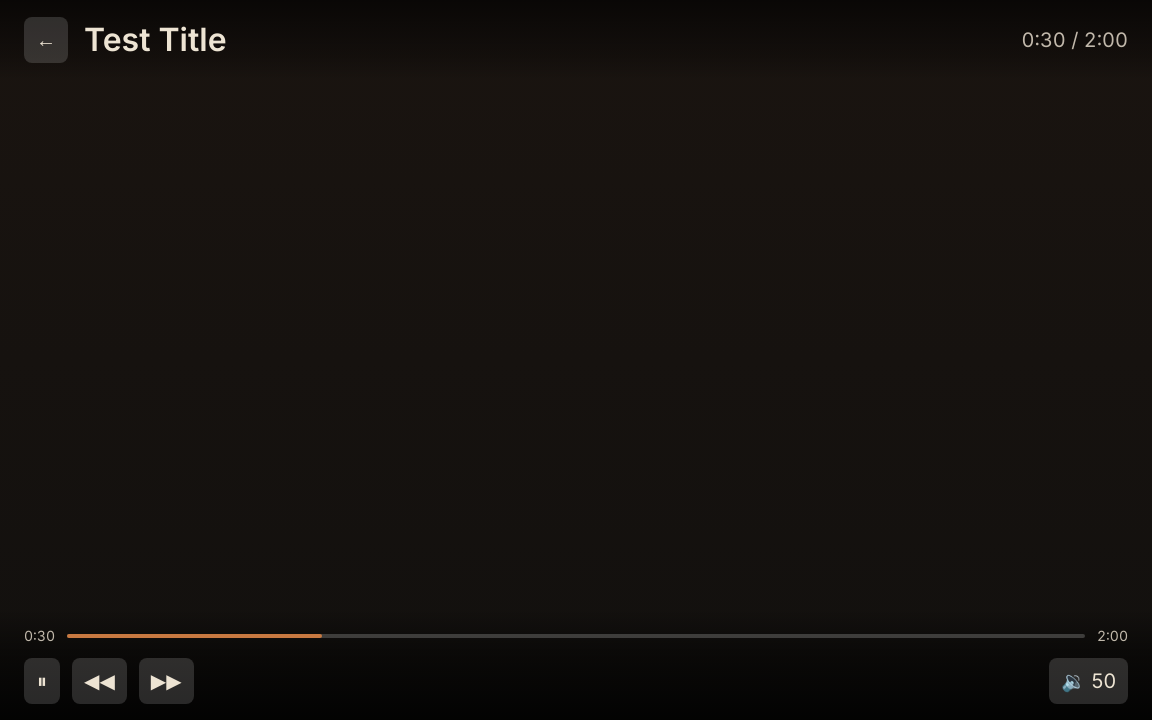
Test: PlayerControls › volume button opens the slider popover
Click the button named "Volume". click: point(1088, 681)
box: x1=1049 y1=658 x2=1128 y2=704
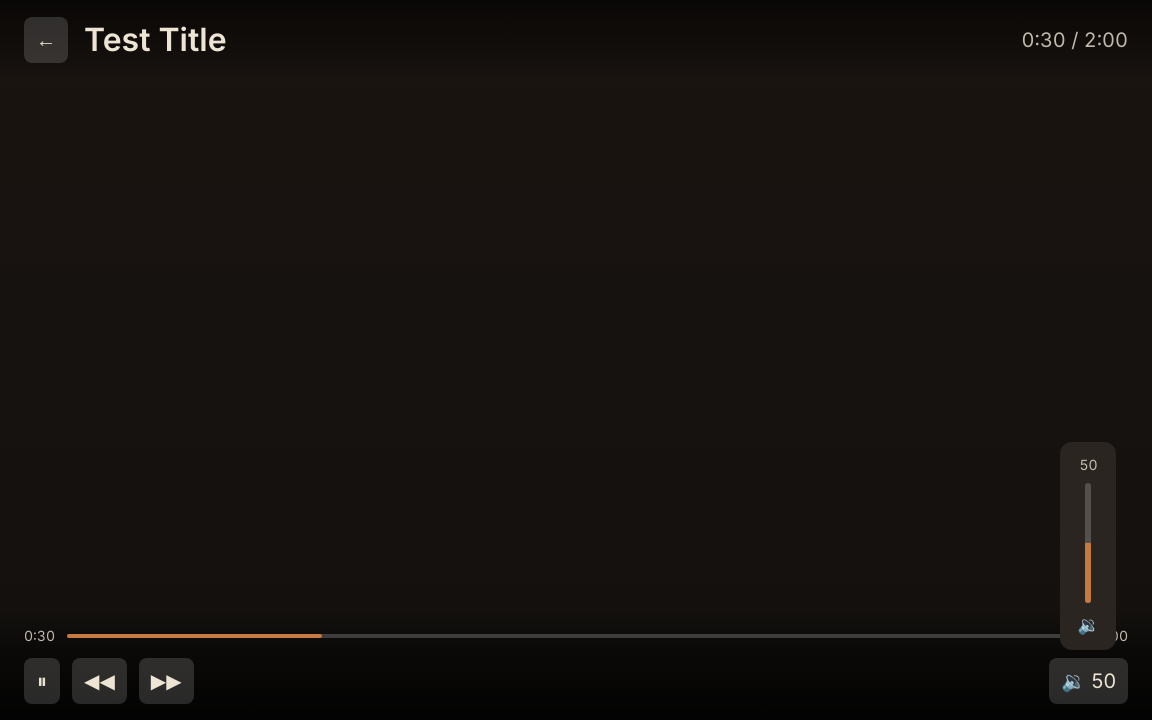
Result: the slider named "Volume" is shown at x1=1060 y1=442 x2=1116 y2=650
